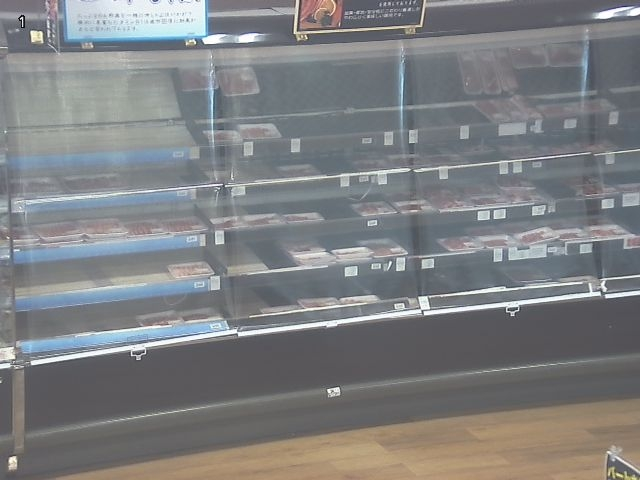meat: (354, 177, 543, 219), (0, 217, 206, 254), (457, 41, 589, 96), (439, 214, 627, 251), (281, 237, 406, 270), (1, 169, 127, 199), (468, 138, 617, 158), (176, 65, 261, 93), (216, 162, 323, 184), (262, 295, 381, 314), (207, 212, 325, 231), (471, 94, 545, 121), (138, 307, 222, 329), (358, 155, 466, 170), (204, 124, 282, 143), (541, 98, 614, 118), (567, 174, 620, 201), (169, 262, 216, 278)
meatless: (1, 67, 273, 154), (5, 278, 366, 341), (254, 54, 491, 138), (530, 36, 639, 148), (12, 248, 203, 298), (358, 262, 517, 298), (318, 224, 467, 255), (499, 250, 639, 282), (203, 196, 381, 219), (517, 66, 600, 105), (208, 153, 353, 174), (210, 239, 295, 274), (120, 162, 208, 188), (348, 144, 457, 158), (535, 179, 579, 199), (119, 211, 196, 222), (610, 209, 639, 234), (602, 169, 639, 184), (464, 152, 506, 163)
